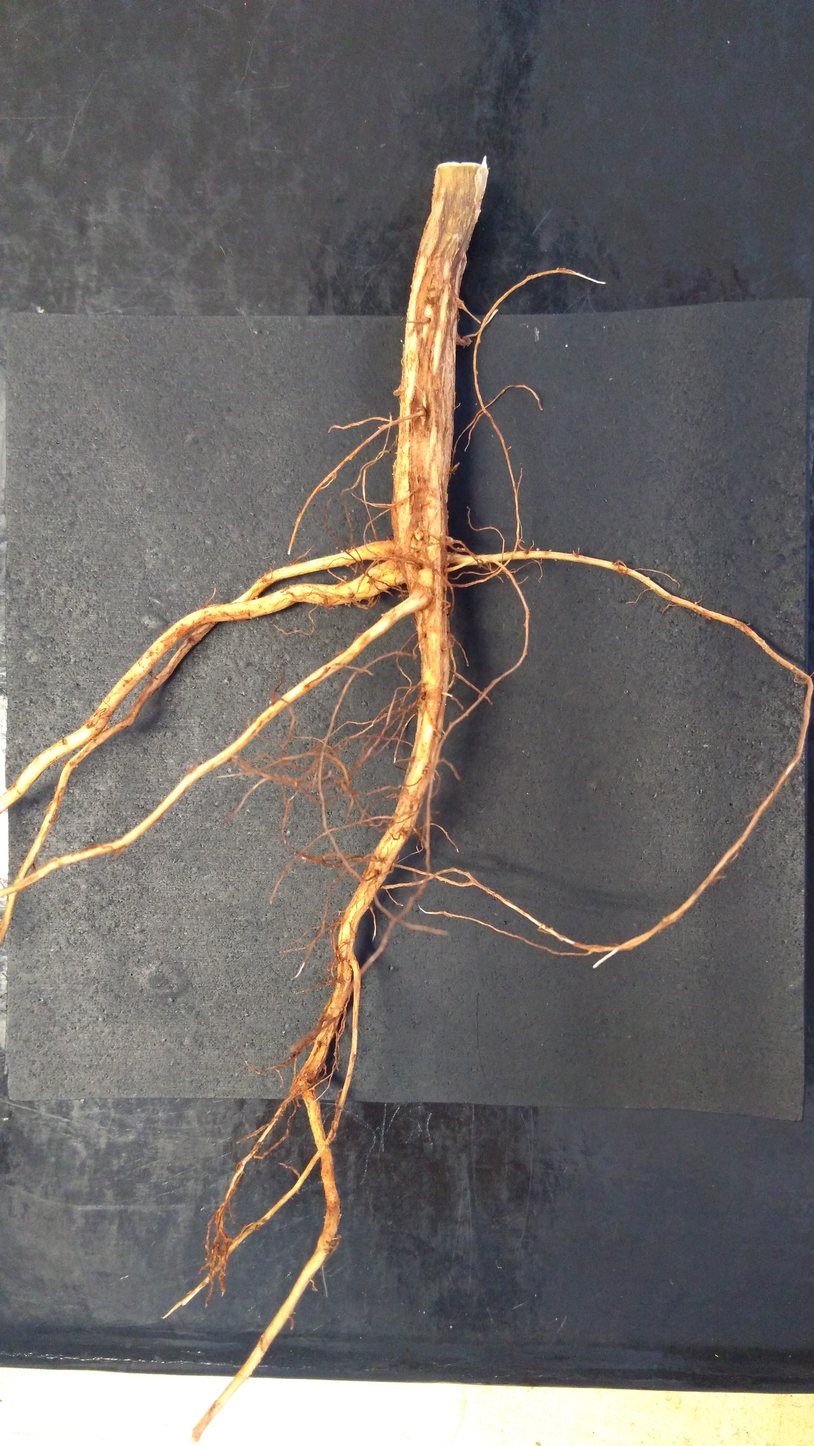nodule: (417, 566, 434, 587), (289, 1079, 310, 1096), (413, 526, 424, 541), (392, 384, 403, 397), (417, 678, 426, 693), (461, 336, 472, 348), (330, 916, 341, 927), (457, 297, 465, 310), (417, 691, 426, 701), (341, 575, 347, 581)
